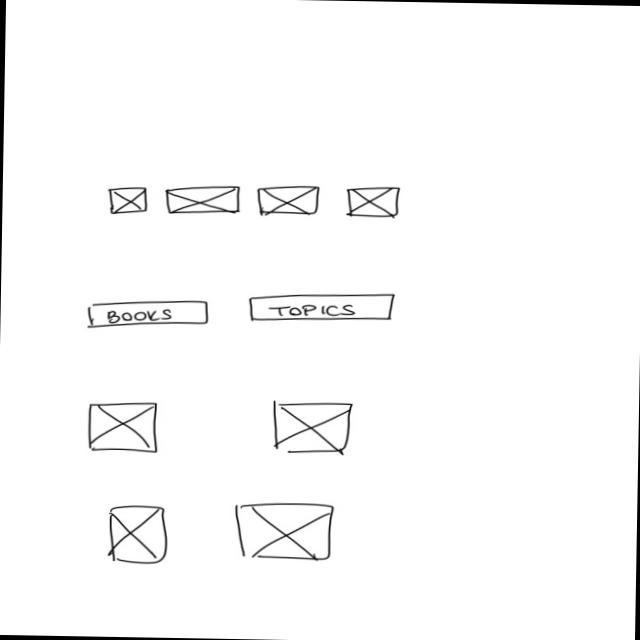button: (247, 290, 398, 324), (82, 297, 210, 332)
image: (234, 500, 335, 561), (270, 398, 352, 456), (82, 400, 160, 454), (106, 503, 168, 565), (164, 181, 243, 216), (256, 182, 322, 218), (346, 186, 402, 218), (108, 183, 149, 215)
